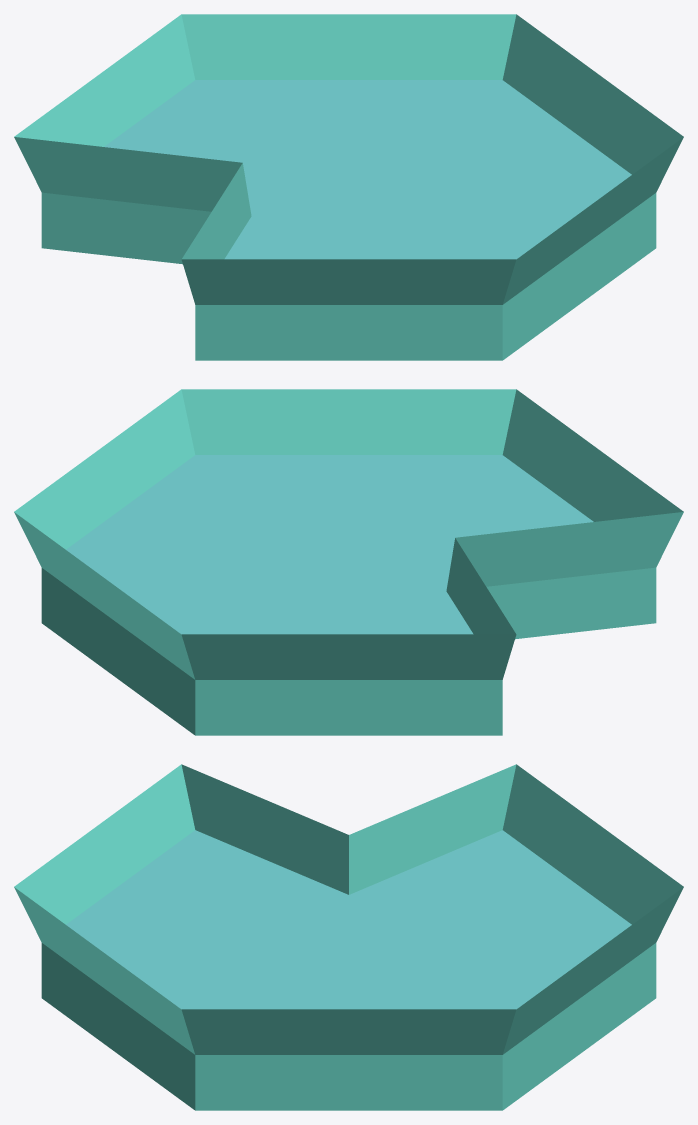
Rendered from lily_small.gltf.
The picture shows the model from 3 angles, top to bottom: view 1: azimuth 30°, elevation 25°; view 2: azimuth 150°, elevation 25°; view 3: azimuth 270°, elevation 25°; orthographic projection.
Parts seen in each view (by area): view 1: lily_small; view 2: lily_small; view 3: lily_small.
Part boxes in pixels (box(x1,y1,x2,y2)): lily_small: box(14, 14, 683, 360); lily_small: box(14, 389, 683, 735); lily_small: box(14, 764, 683, 1110).
Size of the model in its own units: 0.1888 by 0.04 by 0.218.
